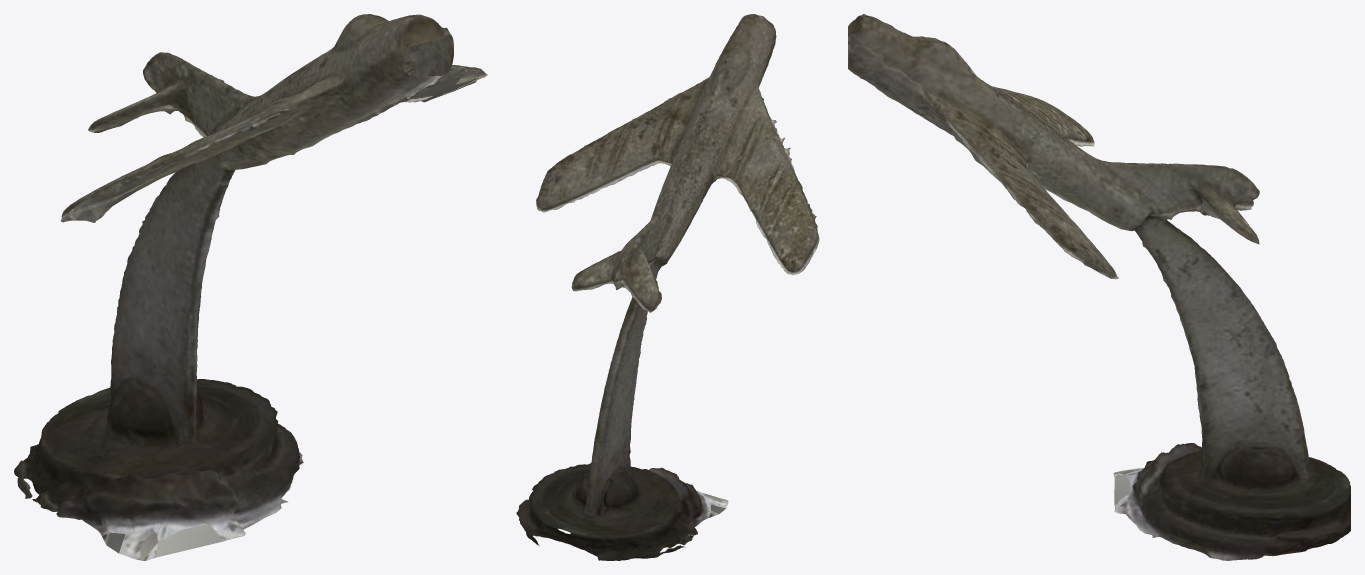
Rendered from may-bay.glb.
3 views of the same model, side by side, from view 1: azimuth 30°, elevation 25°; view 2: azimuth 150°, elevation 25°; view 3: azimuth 270°, elevation 25° (orthographic). The views are drawn at different scales.
Visible parts, largest first — view 1: Object_2; view 2: Object_2; view 3: Object_2.
Part boxes in pixels (box(x1,y1,x2,y2)): Object_2: box(14, 14, 487, 560); Object_2: box(516, 14, 819, 560); Object_2: box(848, 14, 1350, 560).
Size of the model in its own units: 0.1362 by 0.196 by 0.1784.
Materials: 1 (1 with a texture image).
